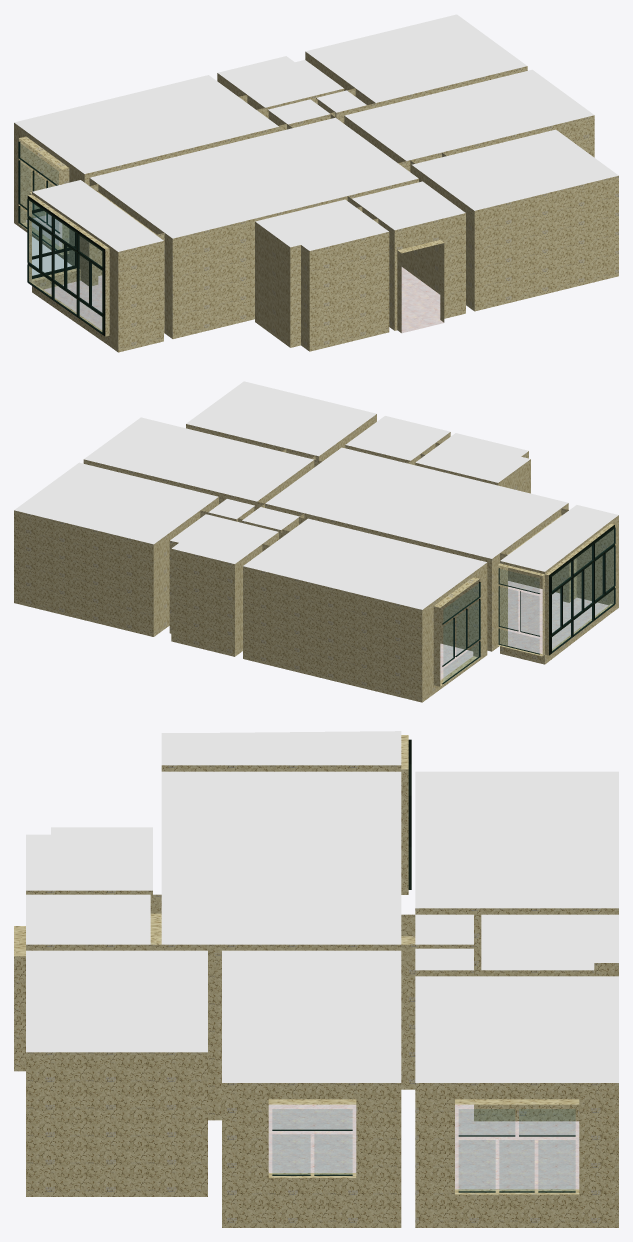
Rendered from house.FBX.
3 renders of one model, top to bottom at view 1: azimuth 30°, elevation 25°; view 2: azimuth 150°, elevation 25°; view 3: azimuth 270°, elevation 25°, orthographic. The views are drawn at different scales.
Parts seen in each view (by area): view 1: top, Line001, glass, floor, windowborder; view 2: top, Line001, glass, floor, windowborder; view 3: top, Line001, floor, glass, windowborder.
Part boxes in pixels (x1,y1,x2,y2): top: [14, 14, 618, 251]; Line001: [14, 51, 618, 352]; glass: [19, 143, 101, 332]; floor: [26, 214, 443, 333]; windowborder: [18, 141, 105, 336]; top: [14, 381, 618, 609]; Line001: [14, 414, 618, 702]; glass: [444, 529, 614, 682]; floor: [440, 581, 608, 679]; windowborder: [442, 524, 615, 684]; top: [26, 731, 618, 1082]; Line001: [14, 735, 618, 1227]; floor: [268, 1104, 579, 1189]; glass: [273, 1109, 574, 1191]; windowborder: [272, 739, 575, 1192].
Bounding box in the file's own units: 142 × 26.4 × 99.87.
7 materials, 4 textured.
